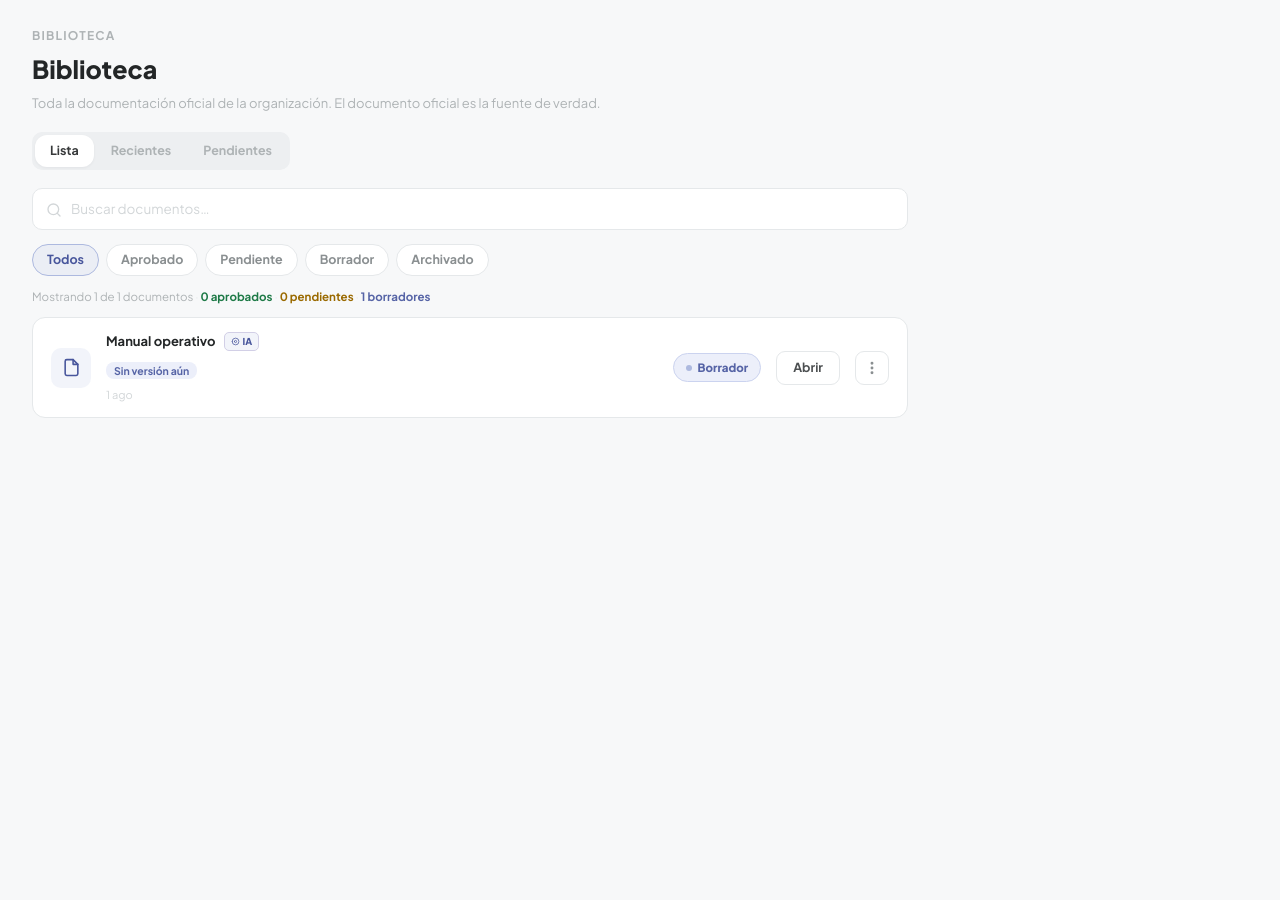
Scenario: WorkspacePage — menú contextual de la Biblioteca › muestra el error de Eliminar dentro del diálogo sin perder la confirmación
Click the button named "Más opciones".
click(872, 368)  # box [855,351,889,385]
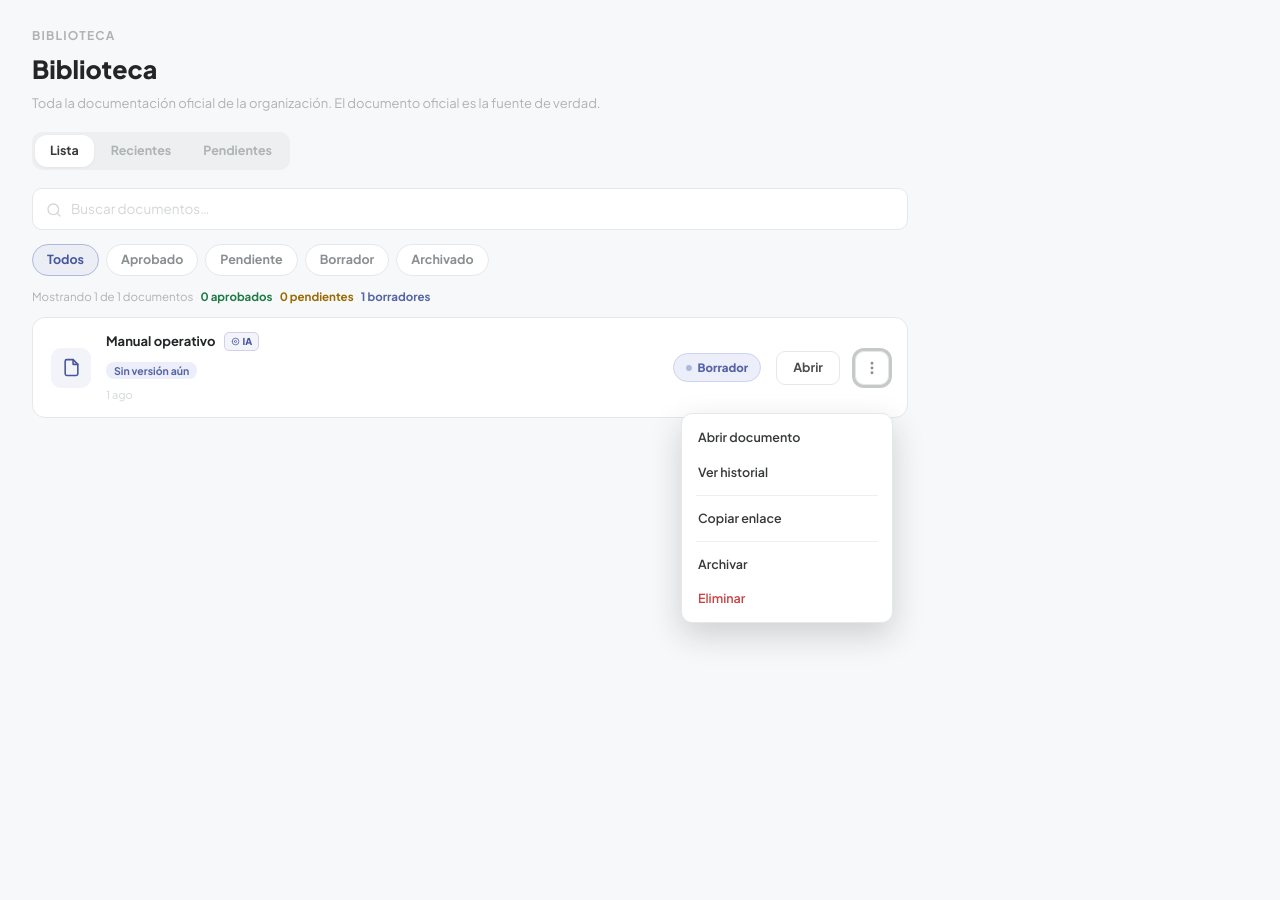
Click the menu item "Eliminar".
click(787, 599)  # box [688,581,886,616]
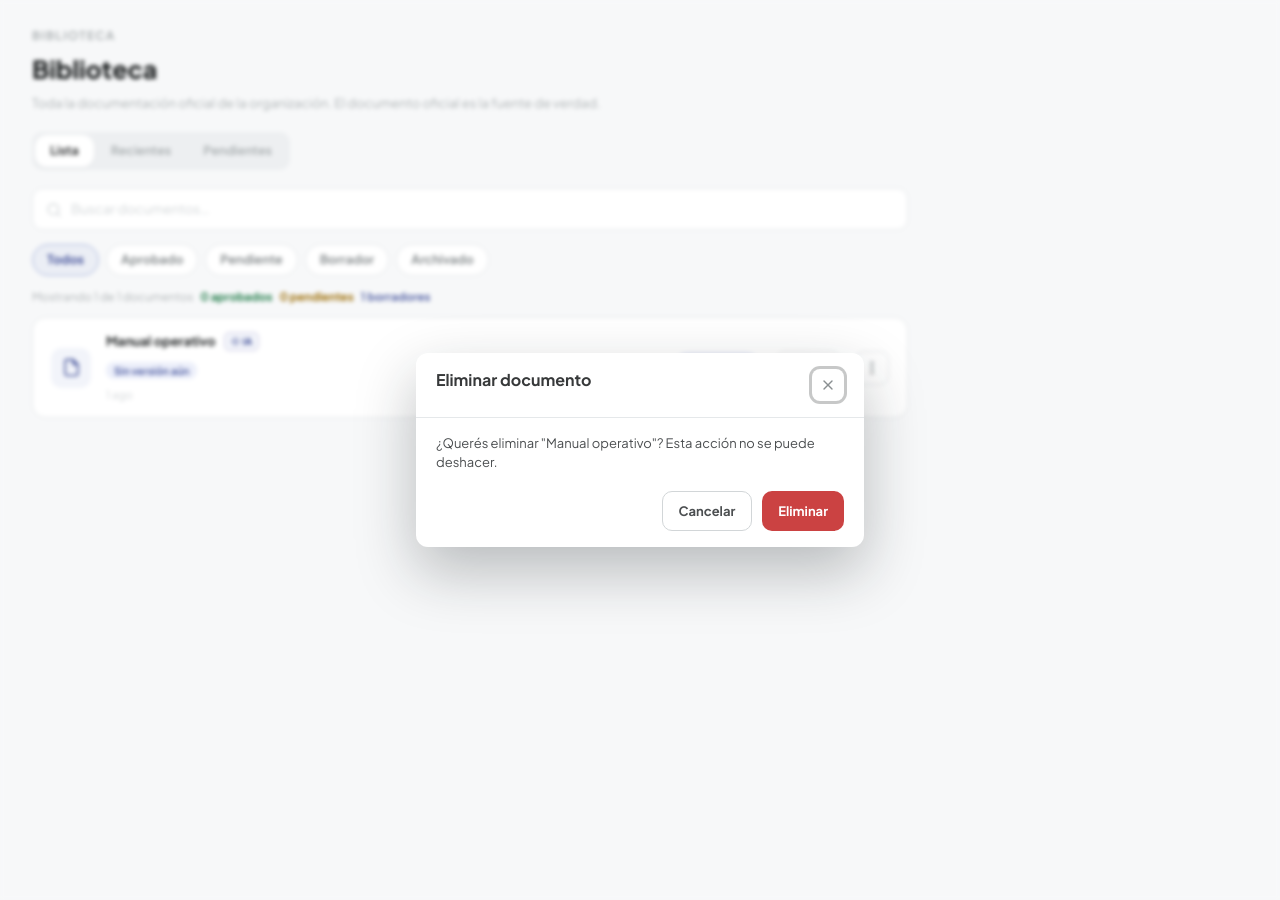
Click the button "Eliminar".
click(803, 511)  # box [762,491,844,531]
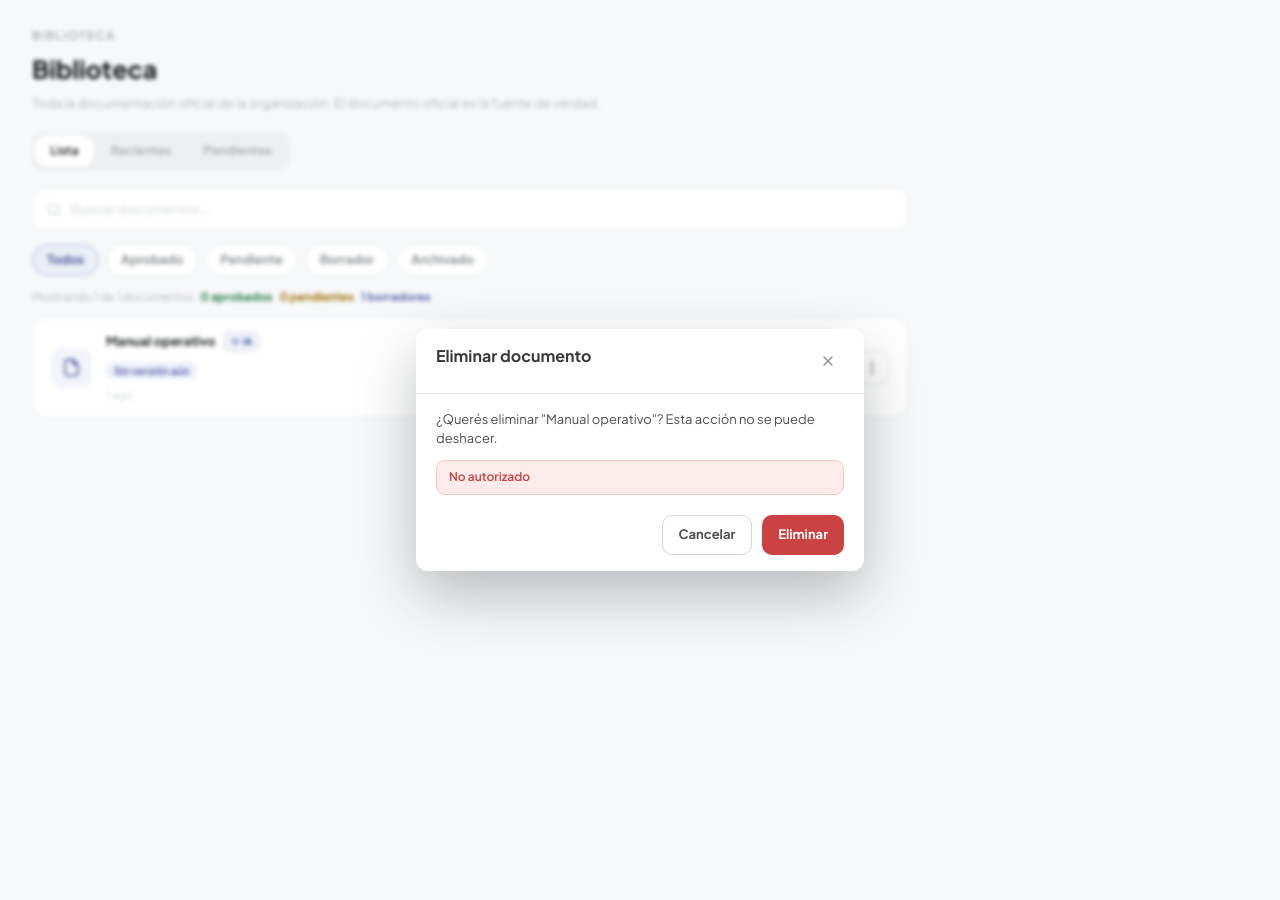
Expected: the text "No autorizado" is shown, [436,460,844,495]
